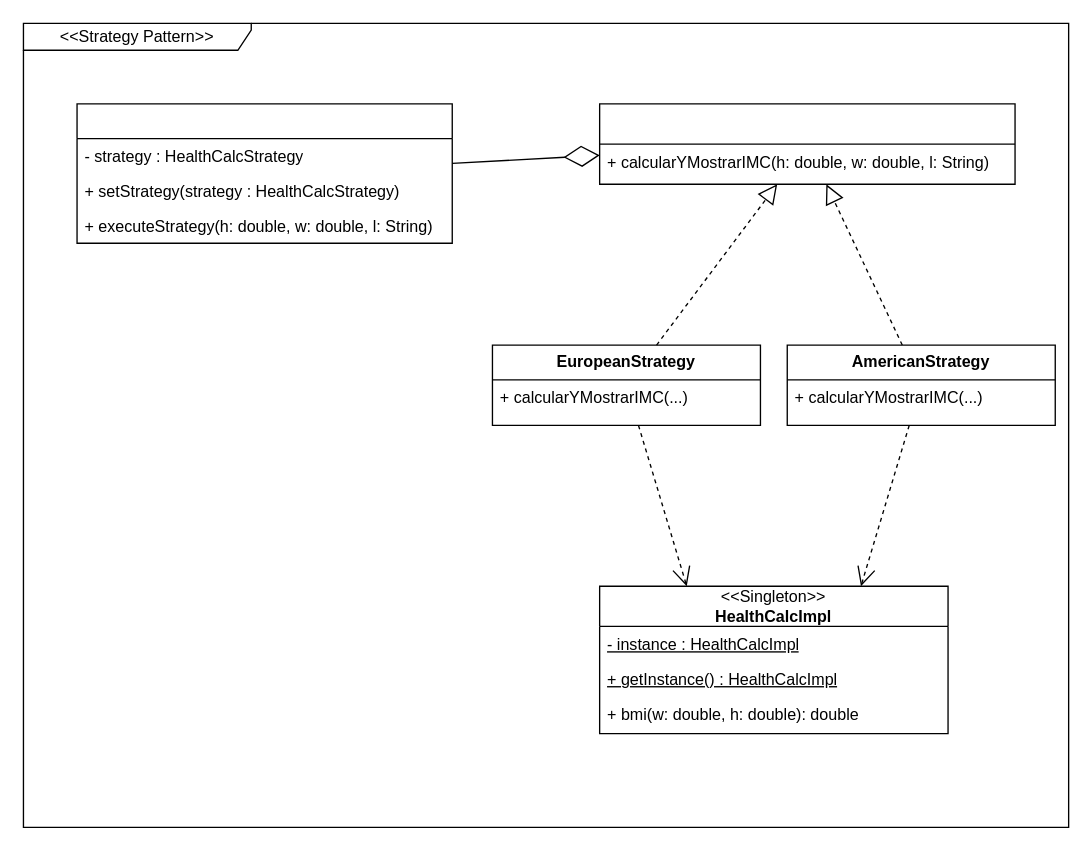
Some shapes in this 1092 by 851 pixel diagram are drawn without their labels. Each missing label, with the box of its shape:
<<interface>> HealthCalcStrategy: (598, 103, 1015, 184)
HealthContext: (76, 103, 452, 243)
